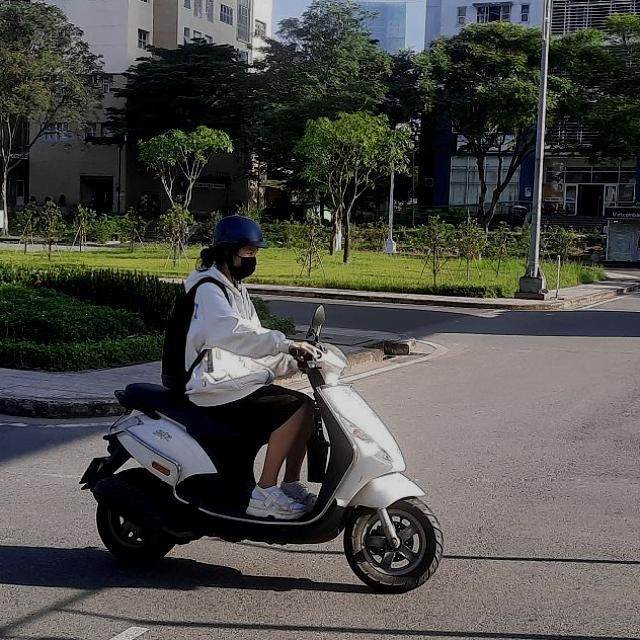Helmet: (206, 208, 266, 278)
